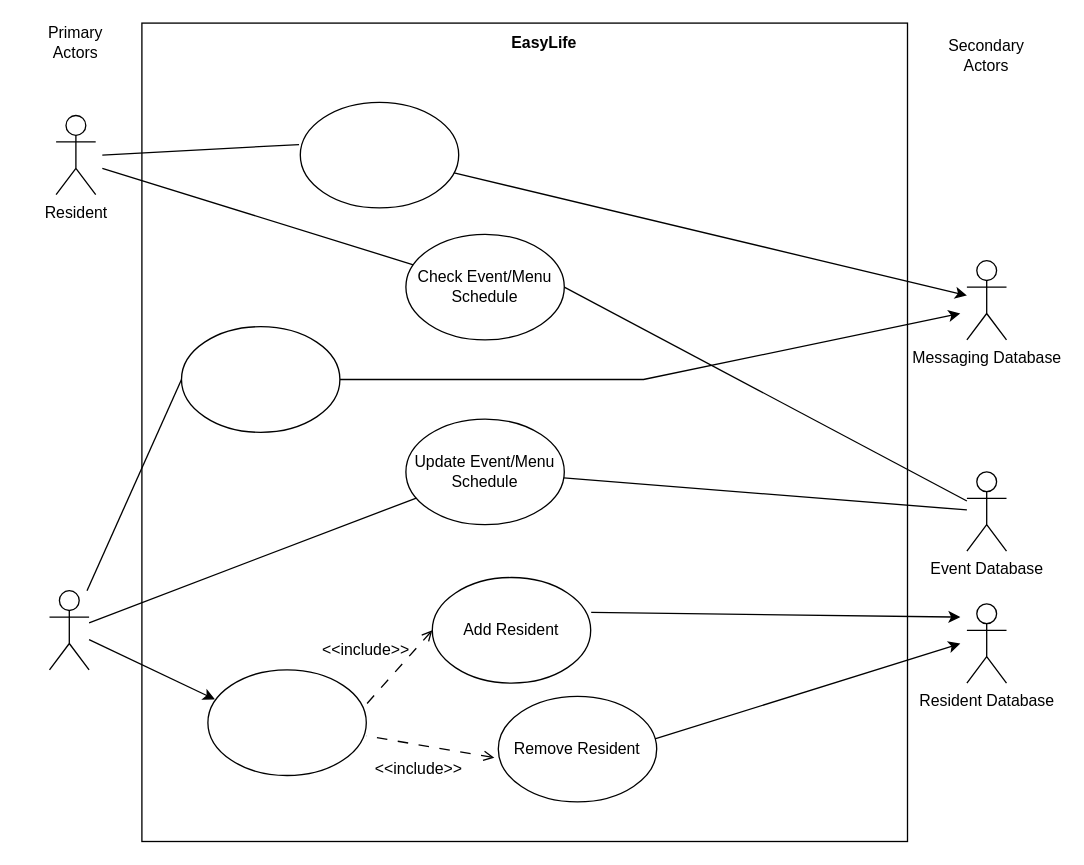
This 1084x865 diagram has some shape labels left out. Here are the shapes that lost their labels. From the top down, the centre of each, then its label:
(379,154): Message Resident
(260,378): Broadcast Announcement
(68,629): Administrator
(286,722): Manage Resident
